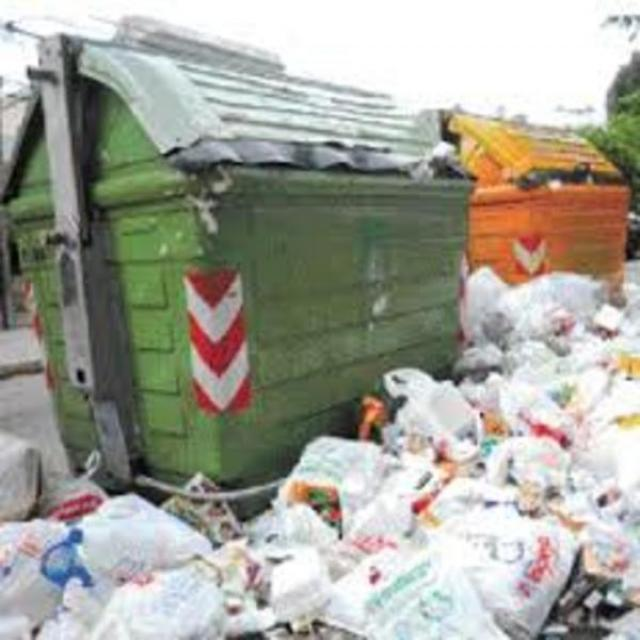garbage: (0, 471, 463, 638), (464, 259, 639, 639), (284, 374, 493, 520), (0, 424, 35, 572), (512, 160, 631, 196), (402, 137, 469, 187)
